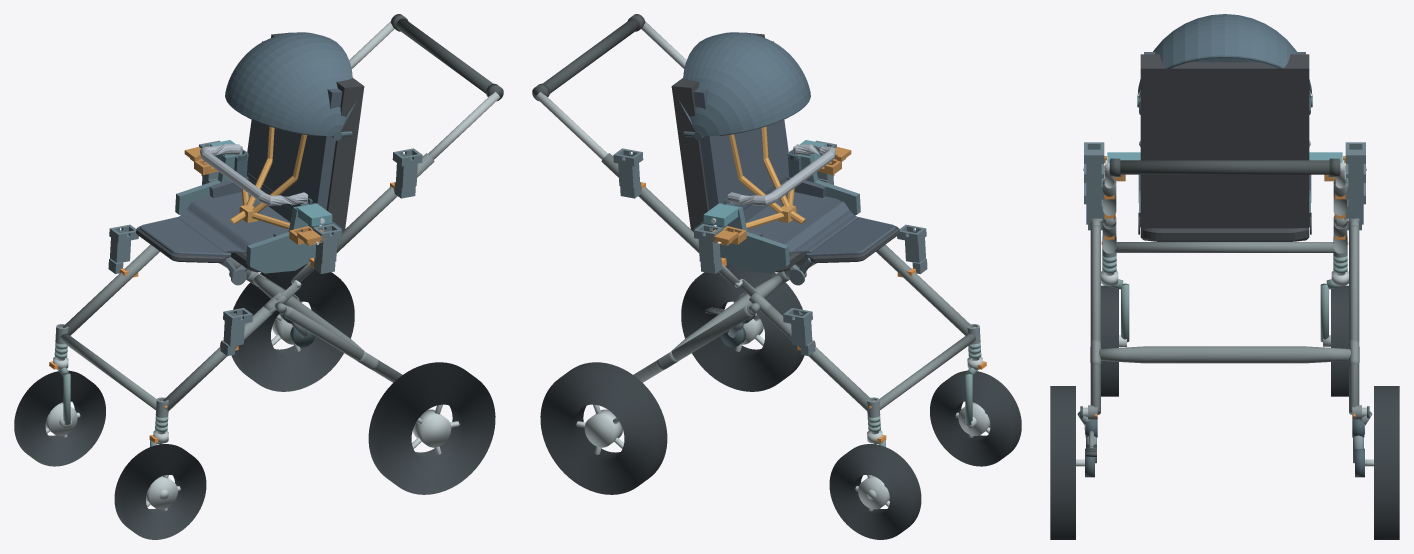
File: S05_w650_state1_wheel_L.glb
3 renders of one model, left to right at view 1: azimuth 30°, elevation 25°; view 2: azimuth 150°, elevation 25°; view 3: azimuth 270°, elevation 25°, orthographic. The views are drawn at different scales.
Parts seen in each view (by area): view 1: S05_Cabin, RL_tire.008, RR_tire.008, FL_tire.008, FR_tire.008, S05_Cabin_Mount_M, round_handle.008, main_lower_1.009, V46_rear_leg_-1.009, main_lower_-1.009, front_fixed_round_tube.008, main_upper_-1.009 (+9 smaller); view 2: S05_Cabin, RR_tire.008, RL_tire.008, FR_tire.008, FL_tire.008, S05_Cabin_Mount_M, round_handle.008, main_lower_-1.009, V46_rear_leg_1.009, main_lower_1.009, front_fixed_round_tube.008, main_upper_1.009 (+9 smaller); view 3: S05_Cabin, V46_rearbar.009, RL_tire.008, RR_tire.008, round_handle.008, front_fixed_round_tube.008, FL_tire.008, FR_tire.008, V46_rear_leg_1.009, V46_rear_leg_-1.009, Universal_Cabin_Receiver_H_1, Universal_Cabin_Receiver_H_-1 (+5 smaller).
Part boxes in pixels (x1,y1,x2,y2): S05_Cabin: (136, 32, 364, 285); RL_tire.008: (368, 362, 495, 494); RR_tire.008: (231, 263, 354, 391); FL_tire.008: (114, 444, 206, 539); FR_tire.008: (14, 370, 105, 466); S05_Cabin_Mount_M: (175, 140, 341, 273); round_handle.008: (396, 18, 502, 99); main_lower_1.009: (63, 244, 159, 335); V46_rear_leg_-1.009: (283, 306, 402, 382); main_lower_-1.009: (163, 306, 274, 411); front_fixed_round_tube.008: (60, 333, 156, 409); main_upper_-1.009: (336, 153, 434, 252); S05_Cabin: (671, 32, 899, 285); RR_tire.008: (540, 362, 667, 494); RL_tire.008: (681, 263, 804, 391); FR_tire.008: (829, 444, 921, 539); FL_tire.008: (930, 370, 1021, 466); S05_Cabin_Mount_M: (694, 140, 860, 273); round_handle.008: (533, 18, 639, 99); main_lower_-1.009: (876, 244, 972, 335); V46_rear_leg_1.009: (633, 306, 752, 382); main_lower_1.009: (761, 306, 872, 411); front_fixed_round_tube.008: (879, 333, 975, 409); main_upper_1.009: (601, 153, 699, 252); S05_Cabin: (1137, 14, 1312, 241); V46_rearbar.009: (1099, 346, 1350, 363); RL_tire.008: (1050, 386, 1075, 539); RR_tire.008: (1374, 386, 1399, 539); round_handle.008: (1109, 160, 1340, 174); front_fixed_round_tube.008: (1114, 242, 1335, 252); FL_tire.008: (1101, 285, 1118, 396); FR_tire.008: (1331, 285, 1348, 396); V46_rear_leg_1.009: (1349, 225, 1359, 414); V46_rear_leg_-1.009: (1090, 225, 1100, 414); Universal_Cabin_Receiver_H_1: (1345, 142, 1365, 199); Universal_Cabin_Receiver_H_-1: (1084, 142, 1104, 199).
Bounding box in the file's own units: 1.2 × 1.23 × 0.8171.
